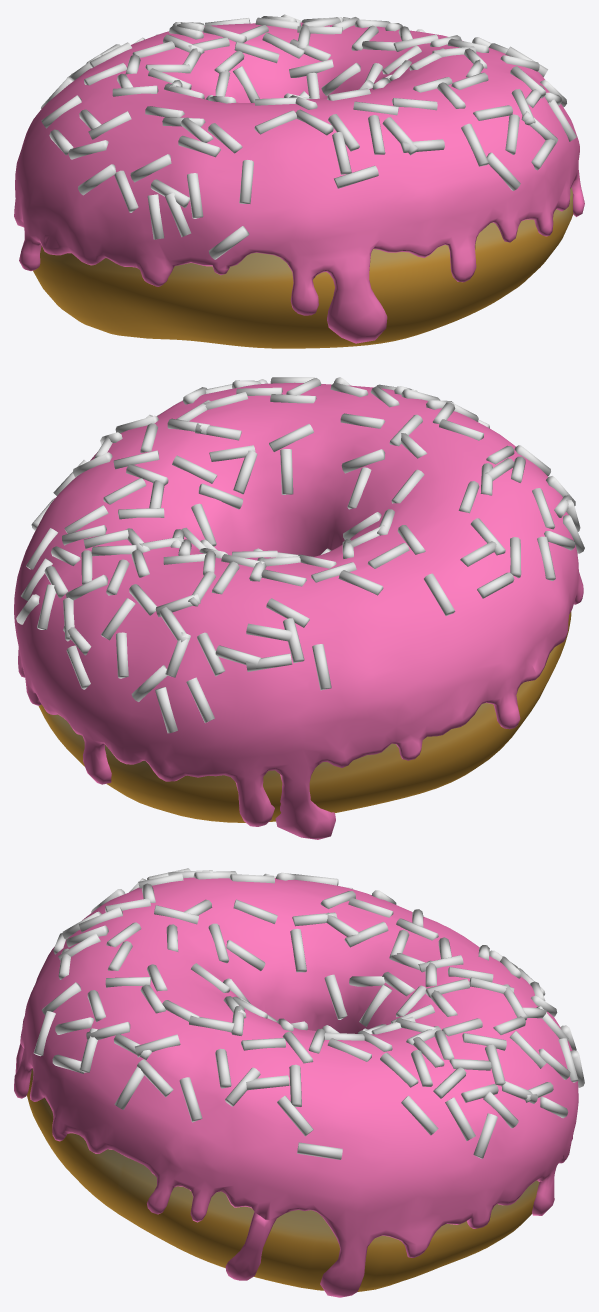
The model's file is donut.glb.
The picture shows the model from 3 angles, top to bottom: view 1: azimuth 30°, elevation 25°; view 2: azimuth 150°, elevation 25°; view 3: azimuth 270°, elevation 25°; orthographic projection.
Parts seen in each view (by area): view 1: Icing, Sprinkle.001, Donut; view 2: Icing, Sprinkle.001, Donut; view 3: Icing, Sprinkle.001, Donut.
Boxes of the visible parts, x1,y1,x2,y2 form: Icing: (14,22,584,343); Sprinkle.001: (41,14,576,259); Donut: (33,187,573,348); Icing: (14,382,583,839); Sprinkle.001: (16,377,584,733); Donut: (38,612,571,822); Icing: (14,877,578,1297); Sprinkle.001: (33,868,584,1159); Donut: (27,1068,539,1291).
Bounding box in the file's own units: 0.0985 × 0.0567 × 0.0998.
2 materials, 1 textured.
